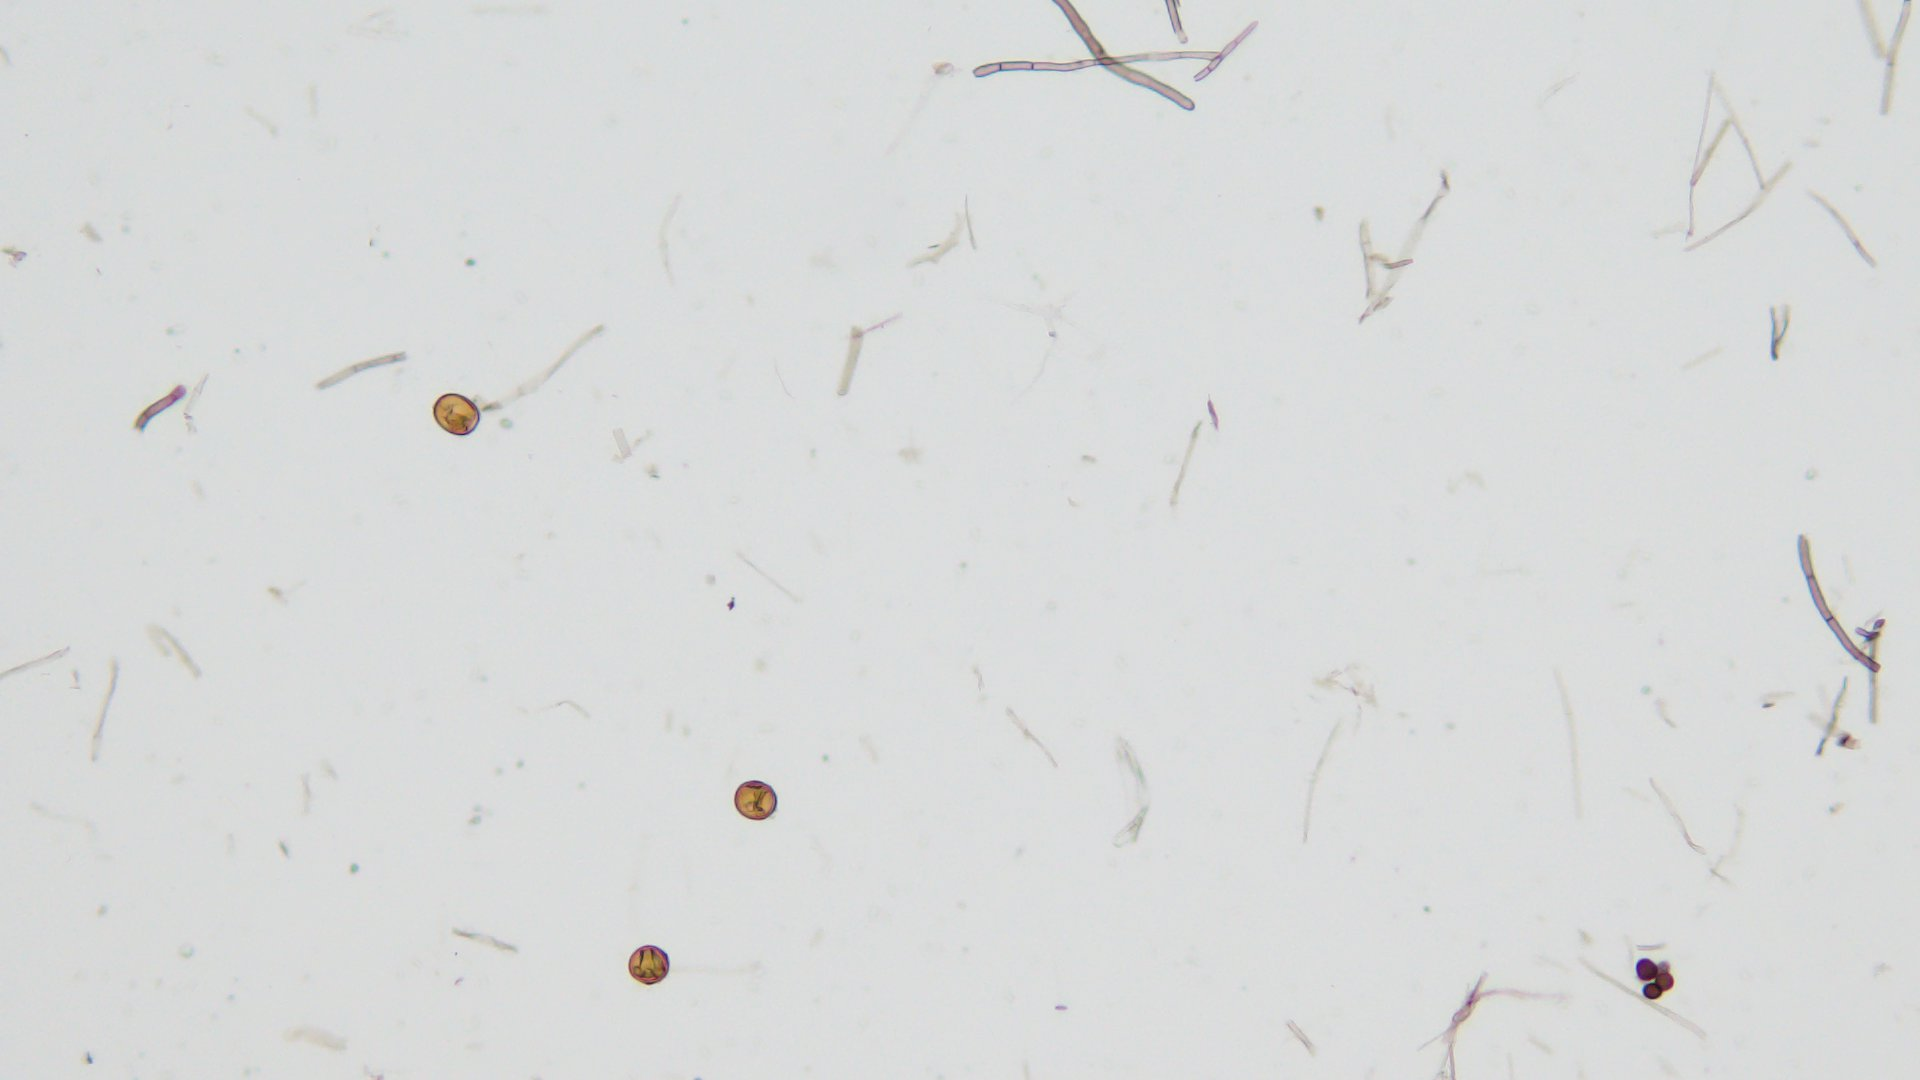shs_spore: (1635, 959, 1658, 978), (1640, 982, 1660, 1000), (1655, 975, 1676, 990)
xb_spore: (436, 390, 481, 434), (733, 781, 775, 823), (626, 947, 670, 984)
